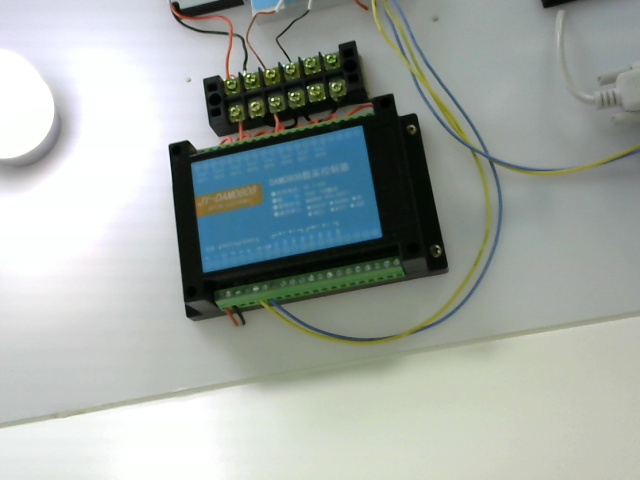relay: (161, 112, 461, 333)
